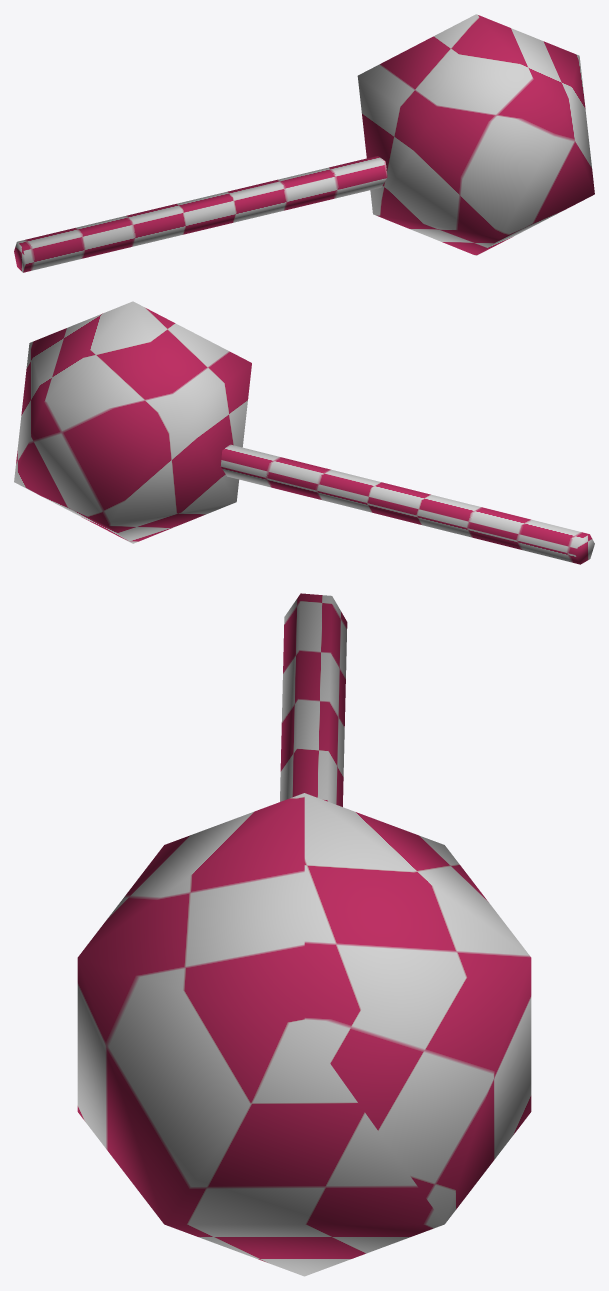
The model's file is MOS.fbx.
3 renders of one model, top to bottom at view 1: azimuth 30°, elevation 25°; view 2: azimuth 150°, elevation 25°; view 3: azimuth 270°, elevation 25°, orthographic. The views are drawn at different scales.
Visible parts, largest first — view 1: Icosphere; view 2: Icosphere; view 3: Icosphere.
Part boxes in pixels (box(x1,y1,x2,y2)): Icosphere: box(14, 14, 594, 272); Icosphere: box(14, 301, 594, 564); Icosphere: box(77, 593, 531, 1276).
Size of the model in its own units: 484 by 200 by 170.
